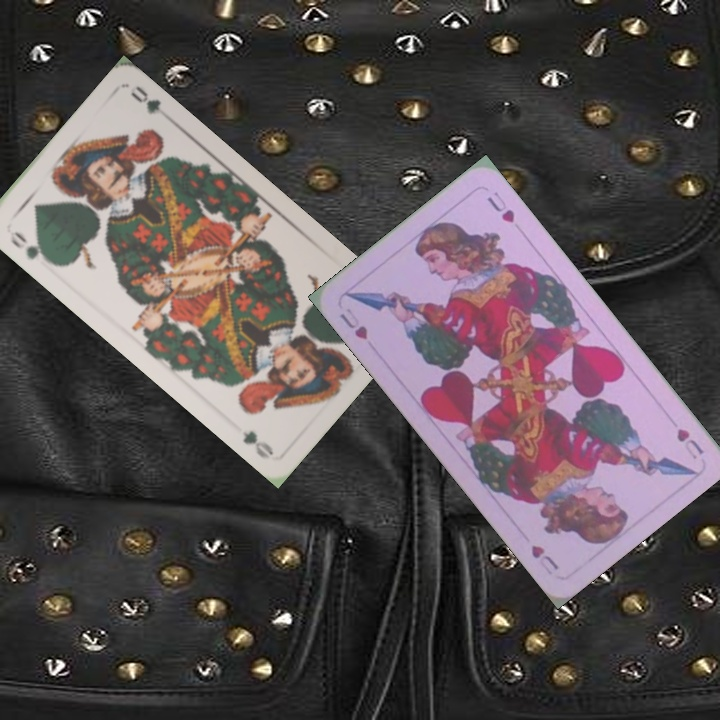GO: (6, 227, 55, 266)
HU: (672, 424, 707, 462), (335, 309, 371, 342)
